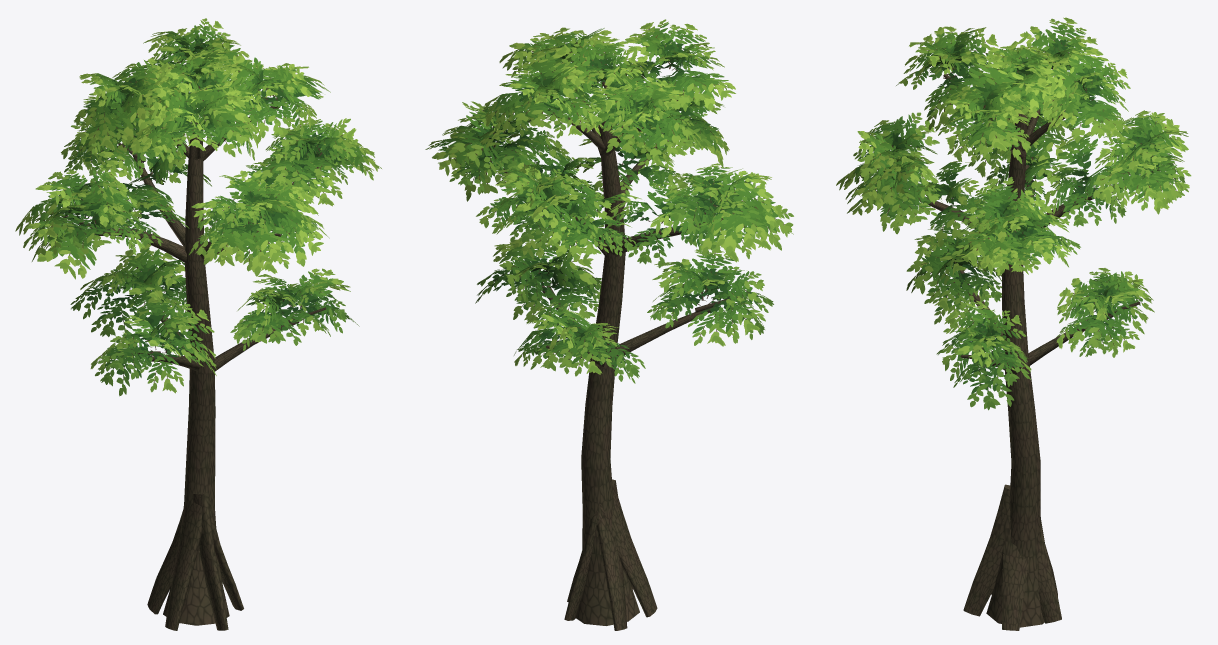
The picture shows the model from 3 angles, left to right: view 1: azimuth 30°, elevation 25°; view 2: azimuth 150°, elevation 25°; view 3: azimuth 270°, elevation 25°; orthographic projection.
Parts seen in each view (by area): view 1: Mesh_CanopyLeaves, Mesh_CanopyBark; view 2: Mesh_CanopyLeaves, Mesh_CanopyBark; view 3: Mesh_CanopyLeaves, Mesh_CanopyBark.
Part boxes in pixels (x1=…): Mesh_CanopyLeaves: x1=15, y1=18, x2=381, y2=396; Mesh_CanopyBark: x1=62, y1=90, x2=329, y2=630; Mesh_CanopyLeaves: x1=425, y1=19, x2=793, y2=383; Mesh_CanopyBark: x1=503, y1=80, x2=743, y2=630; Mesh_CanopyLeaves: x1=836, y1=17, x2=1191, y2=410; Mesh_CanopyBark: x1=907, y1=74, x2=1158, y2=630.
Size of the model in its own units: 10.54 by 15.84 by 9.38.
Materials: 2 (2 with a texture image).
